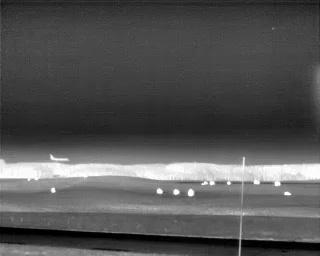AIRPLANE: (270, 24, 276, 32)
